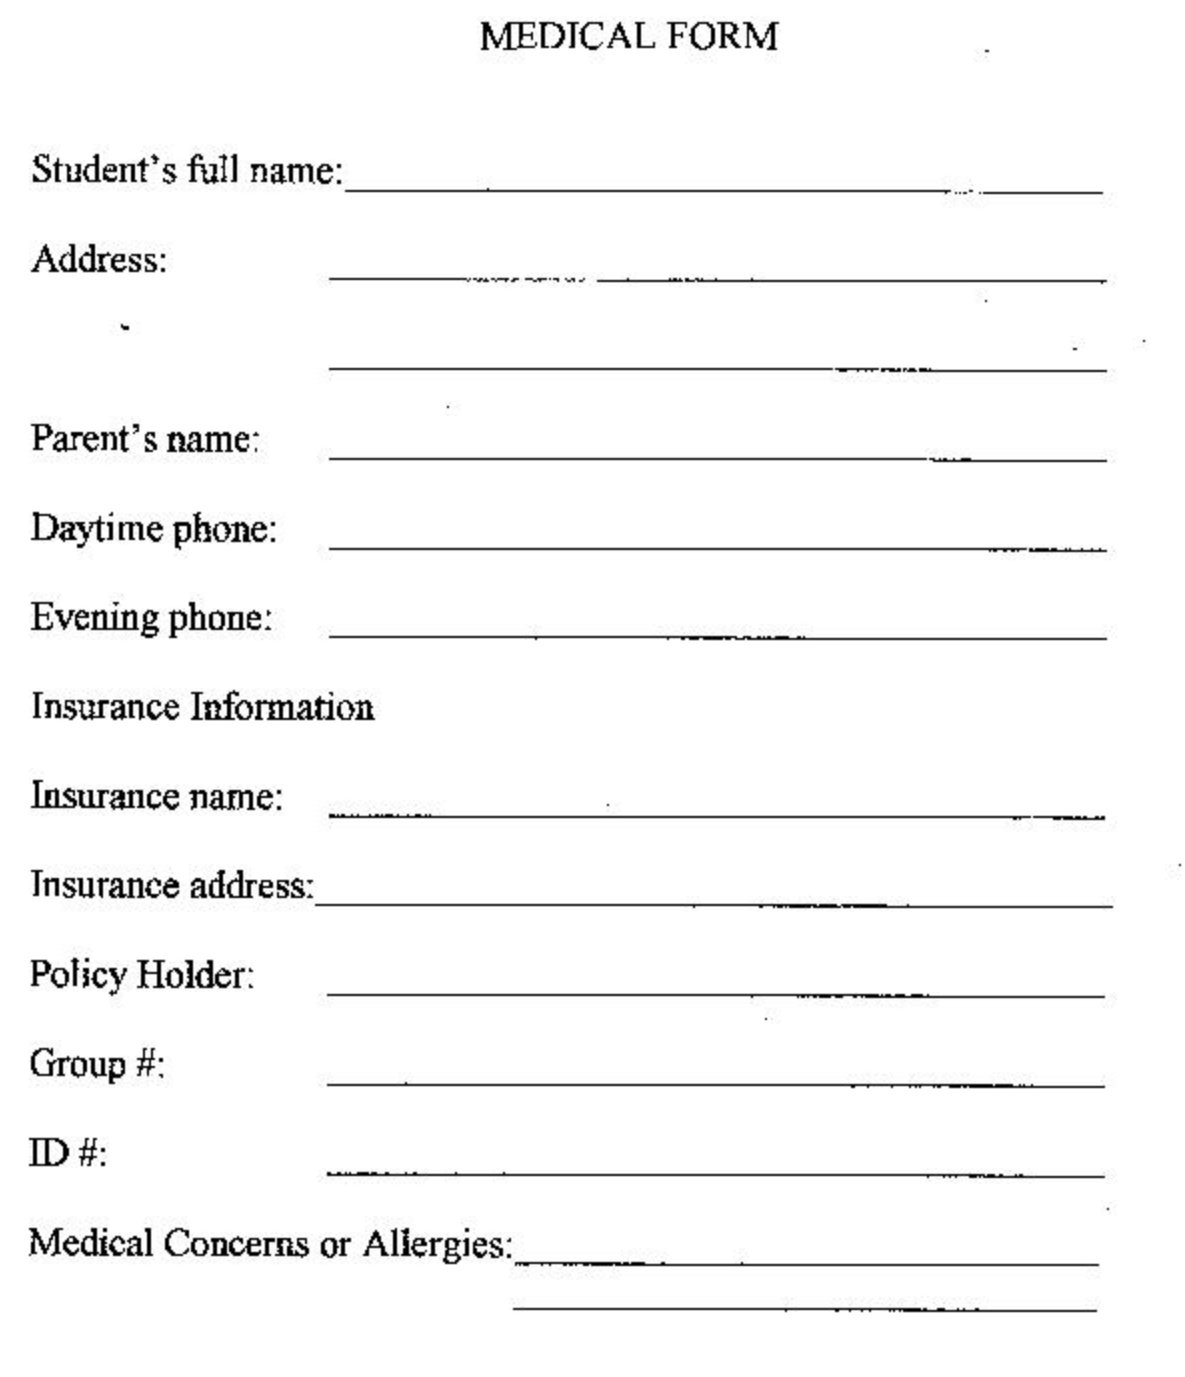textline: (322, 489, 1117, 560), (324, 758, 1114, 824), (313, 852, 1122, 917), (316, 1032, 1112, 1095), (317, 943, 1115, 1003), (320, 585, 1115, 646), (345, 145, 1108, 207), (324, 406, 1114, 466), (324, 234, 1116, 293), (320, 1124, 1112, 1181), (324, 326, 1114, 375), (508, 1212, 1109, 1274), (508, 1274, 1105, 1316)
